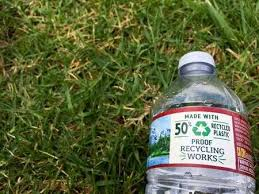plastic_bottle: (144, 51, 255, 194)
